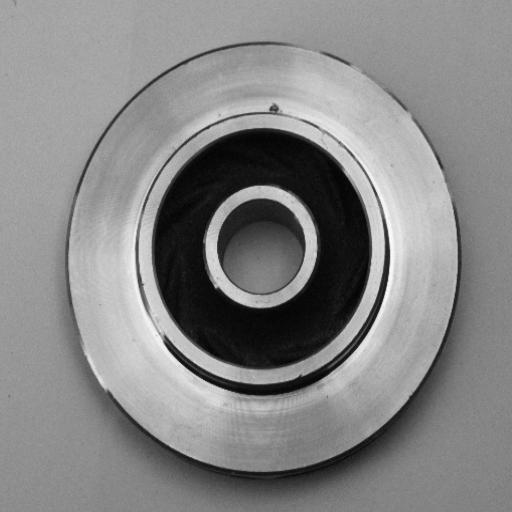crack: (260, 98, 292, 121)
scratch: (125, 266, 177, 355)
unpolished_casting: (63, 41, 462, 480)
